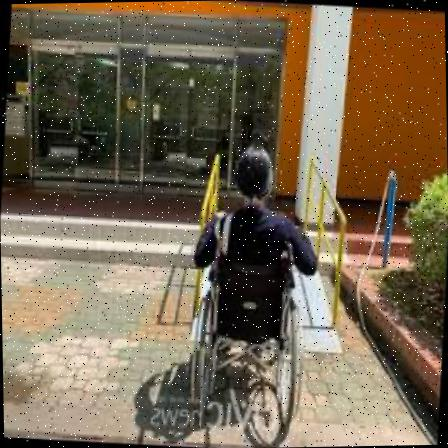wheel: (178, 143, 322, 428)
